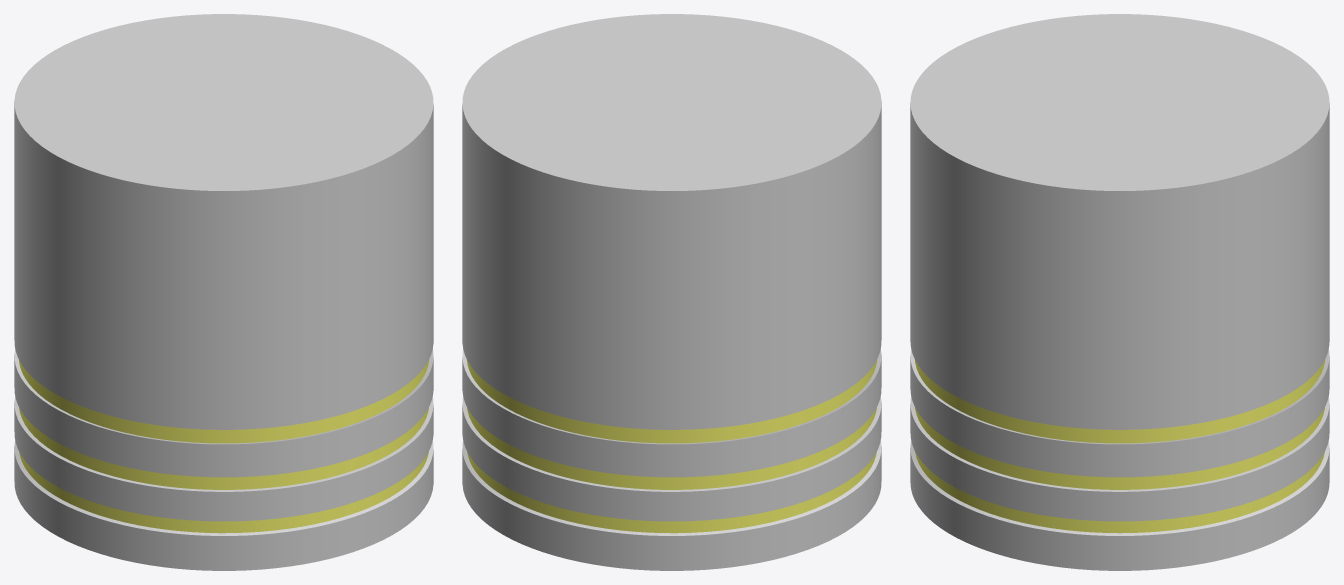
File: cube_dropper_container.fbx
3 renders of one model, left to right at view 1: azimuth 30°, elevation 25°; view 2: azimuth 150°, elevation 25°; view 3: azimuth 270°, elevation 25°, orthographic.
Visible parts, largest first — view 1: Cylinder; view 2: Cylinder; view 3: Cylinder.
Part boxes in pixels (<box>): Cylinder: <box>14,14,433,570</box>; Cylinder: <box>462,14,881,570</box>; Cylinder: <box>910,14,1329,570</box>.
Size of the model in its own units: 200 by 200 by 200.
